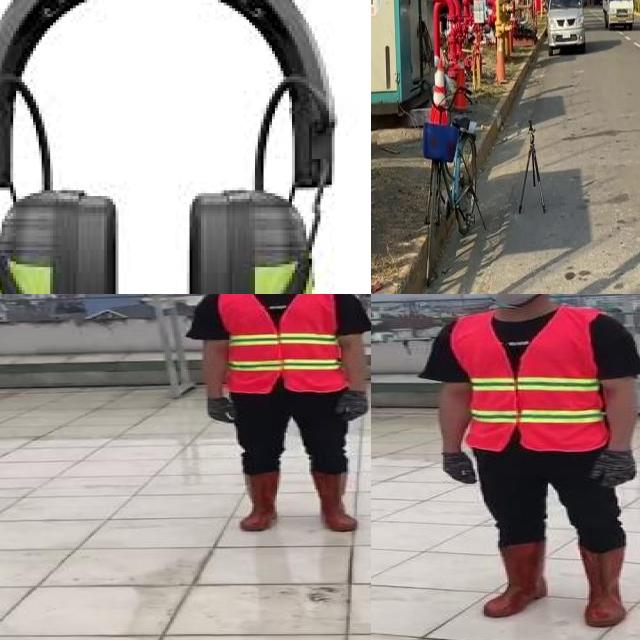Ear-protection: (0, 0, 350, 294)
boots: (482, 540, 546, 620), (573, 544, 631, 629), (307, 469, 364, 532), (238, 470, 282, 533)
face_mask: (474, 294, 545, 304)
hand_glove: (587, 452, 639, 488), (438, 450, 478, 485), (335, 390, 371, 424), (204, 396, 240, 424)
person: (426, 294, 640, 633), (182, 294, 371, 535)
vest: (452, 307, 612, 450), (216, 294, 348, 394)
